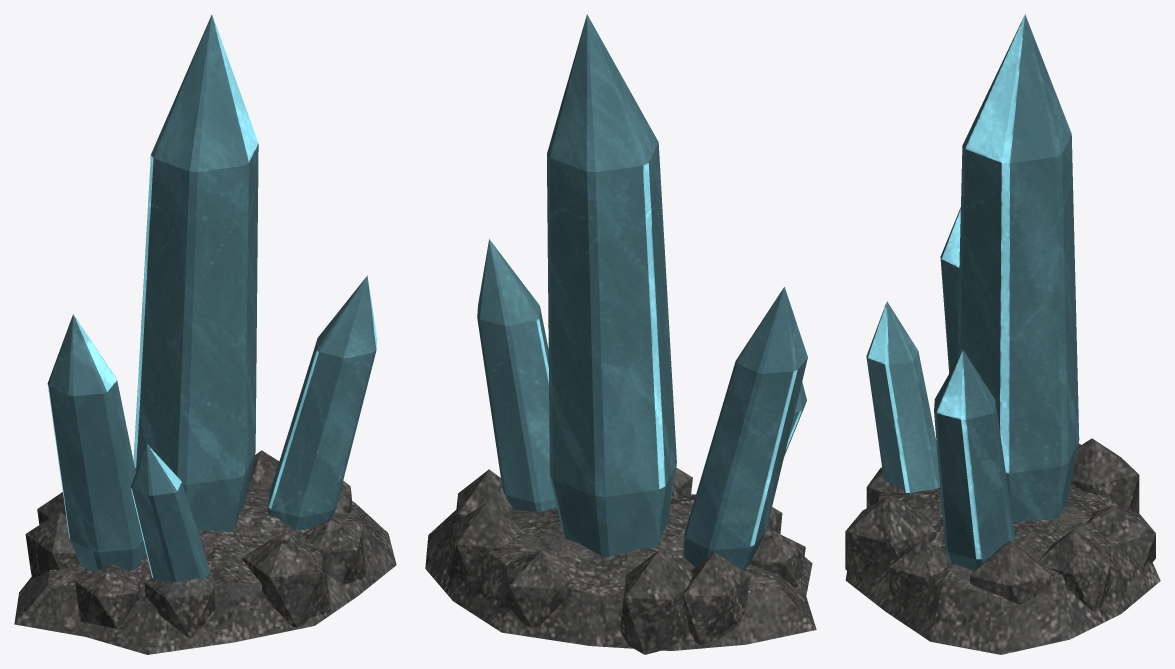
Rendered from ore_cluster_03_crown.glb.
The picture shows the model from 3 angles, left to right: view 1: azimuth 30°, elevation 25°; view 2: azimuth 150°, elevation 25°; view 3: azimuth 270°, elevation 25°; orthographic projection. The views are drawn at different scales.
Visible parts, largest first — view 1: ore_cluster_03_crown; view 2: ore_cluster_03_crown; view 3: ore_cluster_03_crown.
Part boxes in pixels (x1,y1,x2,y2): ore_cluster_03_crown: (14,14,396,654); ore_cluster_03_crown: (425,14,816,654); ore_cluster_03_crown: (845,14,1160,654).
Size of the model in its own units: 28.43 by 40 by 20.44.
3 materials, 3 textured.
